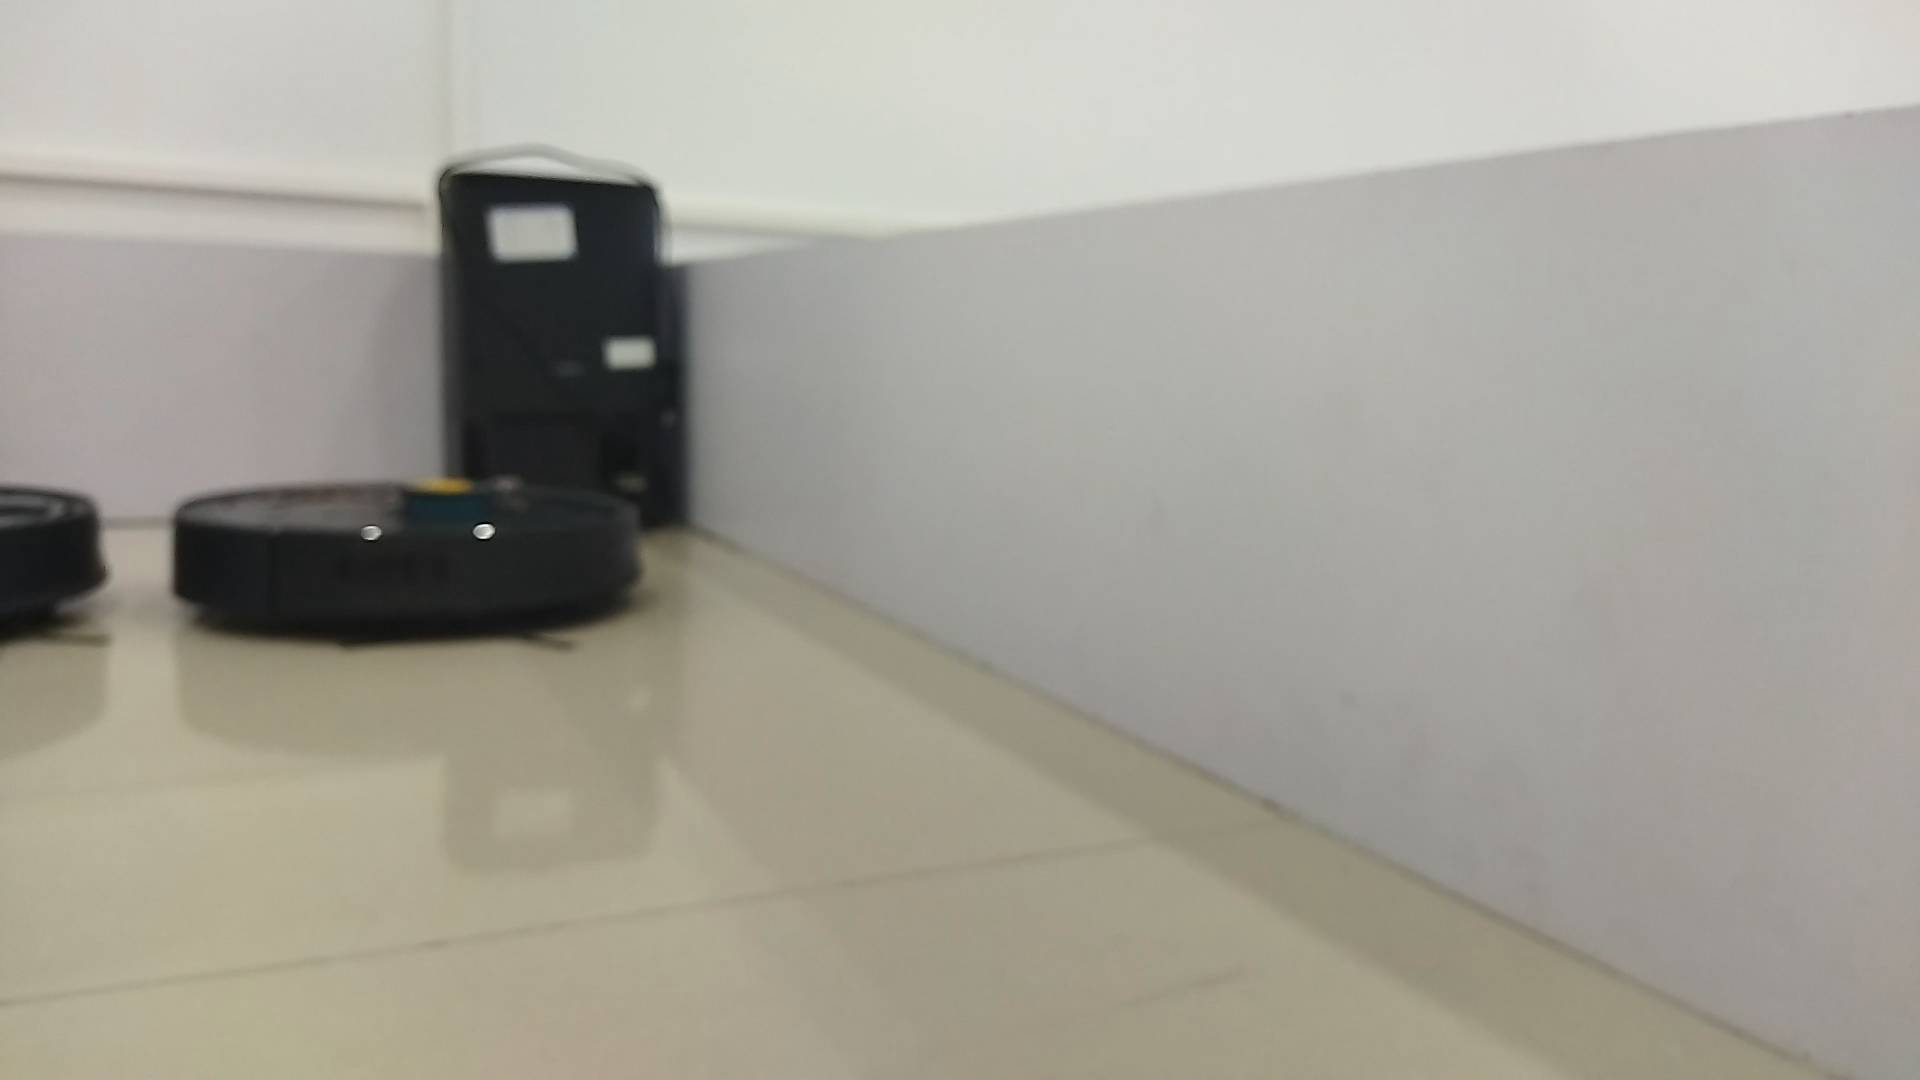dust collecting barrel: (440, 171, 684, 535)
